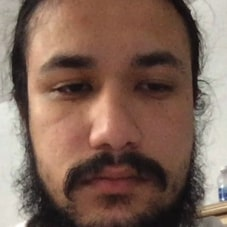drowsy: (34, 34, 186, 216)
